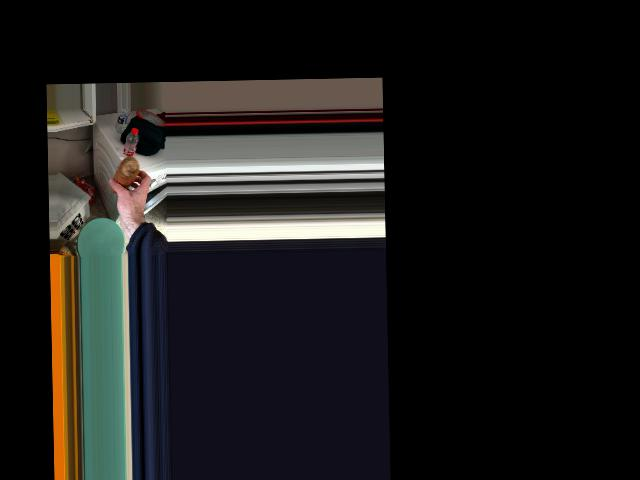sweet_potato: (107, 158, 141, 198)
